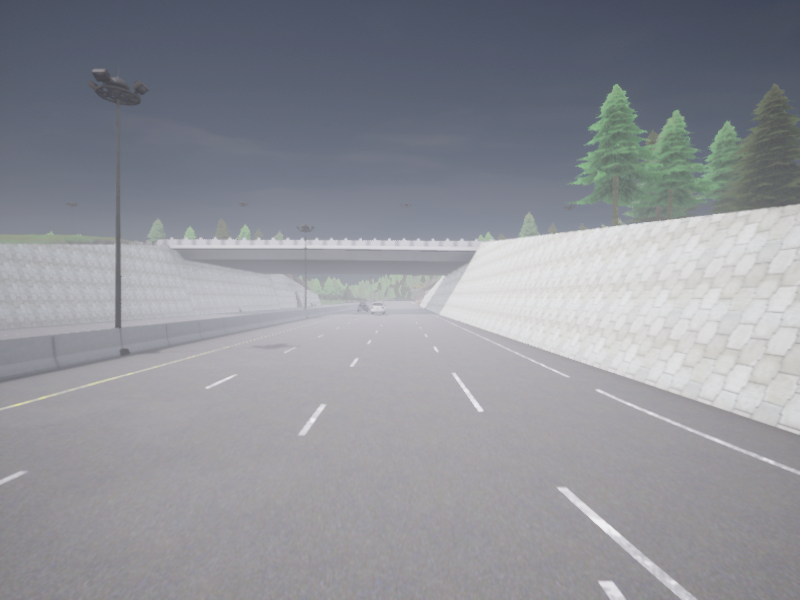vehicle: (371, 302, 385, 314), (357, 303, 368, 312)
